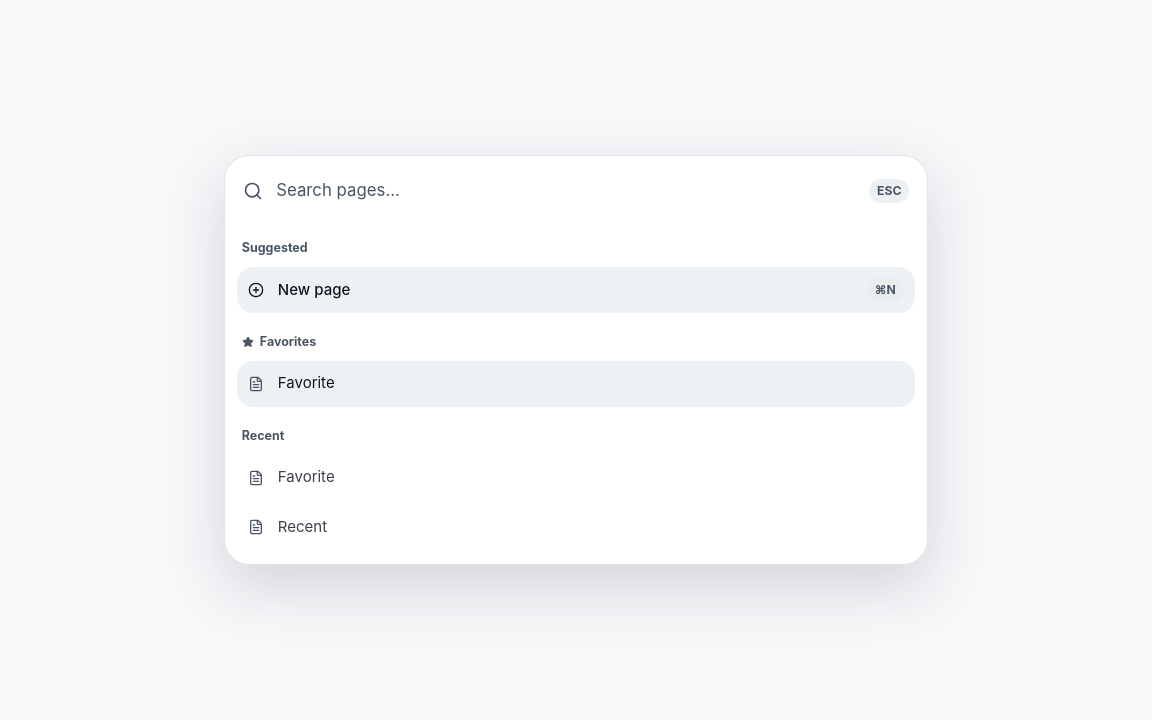
CommandPalette › debounces search and renders async search results
Type "physics" into the field with placeholder "Search pages...". click: {"x": 566, "y": 191}
box: [276,178,856,203]
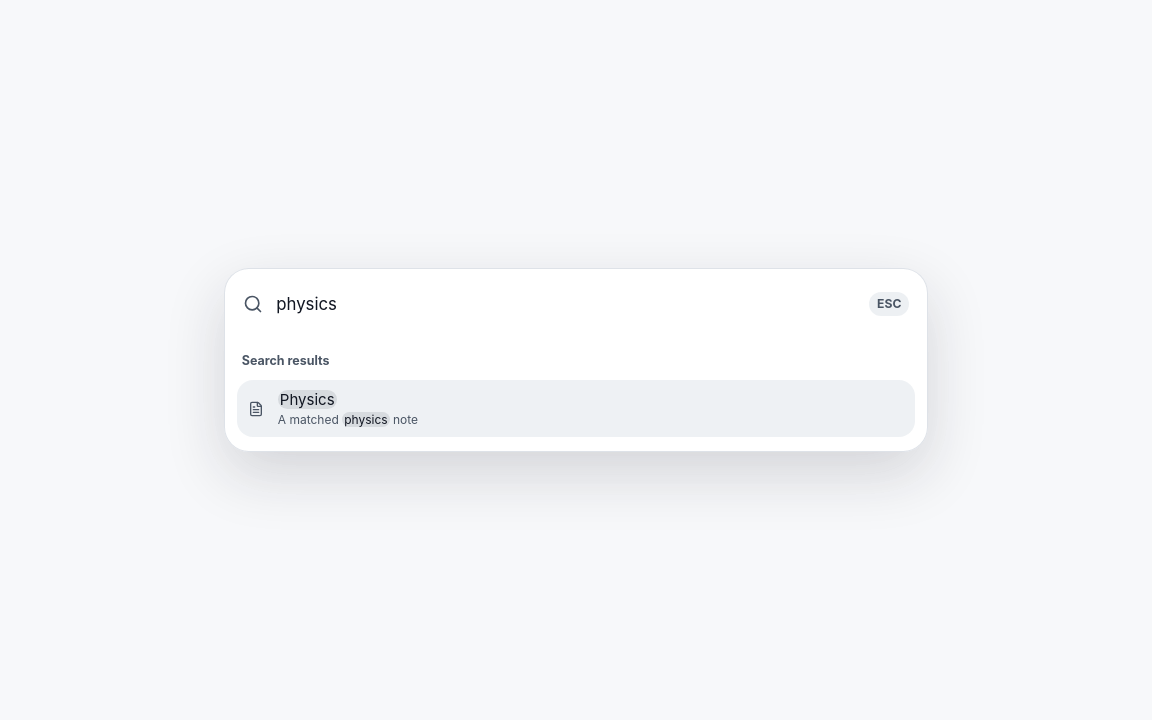
Check: the text "Search results" is shown, box [242,353,330,368]
Check: the text "Physics" is shown, box [278,390,337,409]
